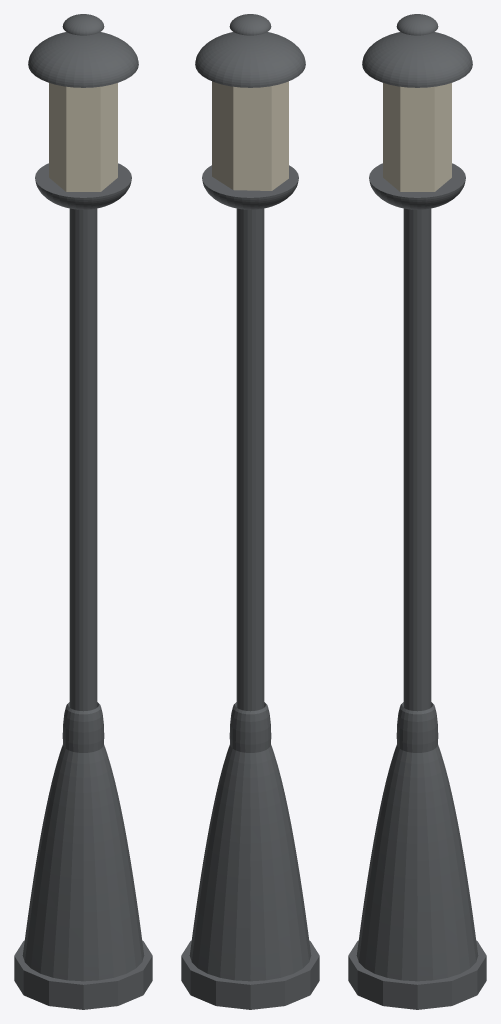
The model's file is lamp.glb.
3 renders of one model, left to right at view 1: azimuth 90°, elevation 25°; view 2: azimuth 150°, elevation 25°; view 3: azimuth 270°, elevation 25°, orthographic.
Parts seen in each view (by area): view 1: Mesh_Mesh_head_geo.001_lambert2SG.001; view 2: Mesh_Mesh_head_geo.001_lambert2SG.001; view 3: Mesh_Mesh_head_geo.001_lambert2SG.001.
Part boxes in pixels (x1,y1,x2,y2): Mesh_Mesh_head_geo.001_lambert2SG.001: (14, 14, 152, 1009); Mesh_Mesh_head_geo.001_lambert2SG.001: (181, 14, 319, 1009); Mesh_Mesh_head_geo.001_lambert2SG.001: (348, 14, 486, 1009).
Bounding box in the file's own units: 0.1 × 0.7675 × 0.1.
